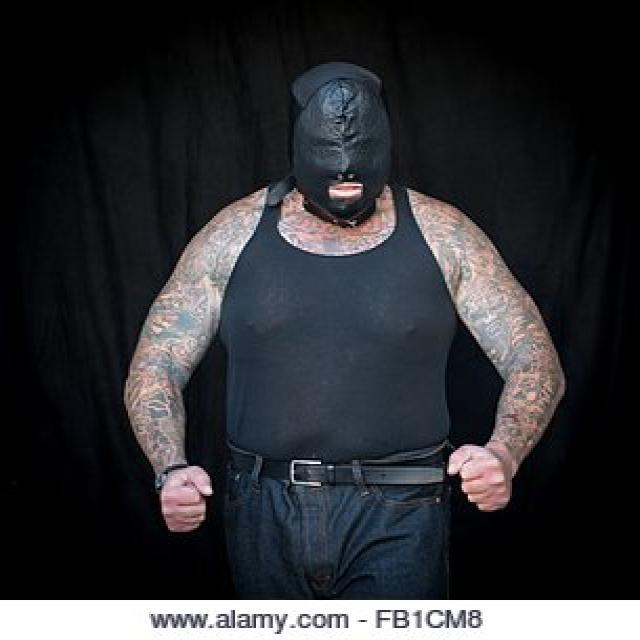6_pasamontana: (287, 61, 398, 223)
